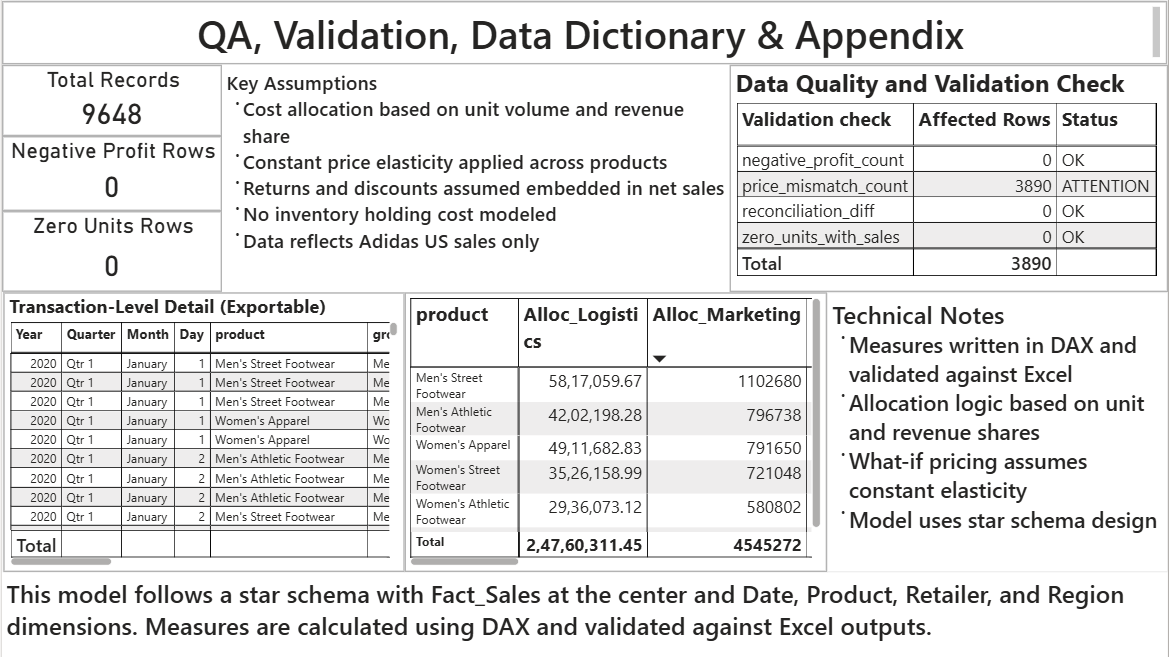

Layout of this report page (visuals, bound fields, positions):
{"tool":"powerbi","page":{"name":"QA & Data Dictionary","canvas":[1280,720],"ordinal":6},"visuals":[{"type":"textbox","box":[0,0,1278.9,70],"z":0},{"type":"card","title":"Total Records","fields":{"Values":["Cost_Type (2).rows"]},"box":[0,70,241.5,78.2],"z":1000},{"type":"card","title":"Zero Units Rows","fields":{"Values":["Table.ZeroUnitsWithSalesCount"]},"box":[0,230.5,241.5,89.2],"z":2000},{"type":"card","title":"Negative Profit Rows","fields":{"Values":["Table.NegativeProfitCount"]},"box":[0,148.2,241.5,82.3],"z":3000},{"type":"tableEx","title":"Data Quality and Validation Check","fields":{"Values":["Tbl_Validation.check","Sum(Tbl_Validation.value)","Tbl_Validation.flag"]},"box":[798.6,70,481.6,249.7],"z":7000},{"type":"textbox","box":[0,627.1,1278.9,93.3],"z":8000},{"type":"textbox","box":[241.5,70,557.1,249.7],"z":9000},{"type":"tableEx","title":"Transaction-Level Detail (Exportable)","fields":{"Values":["Dim_Date.Date.Variation.Date Hierarchy.Year","Dim_Date.Date.Variation.Date Hierarchy.Quarter","Dim_Date.Date.Variation.Date Hierarchy.Month","Dim_Date.Date.Variation.Date Hierarchy.Day","Dim_Product.product","Dim_Product.grouped_category","Dim_Retailer.retailer","Dim_Region.region","Dim_SalesMethod.sales_method","Sum(Fact_Sales.units_sold)","Table.Total Revenue","Table.Total Operating Profit"]},"box":[1.4,319.7,440.5,307.4],"z":10000},{"type":"pivotTable","title":"Data Quality and Validation Check","fields":{"Rows":["Dim_Product.product"],"Values":["Table.Alloc_Logistics","Table.Alloc_Marketing","Table.Alloc_OnlineFee","Table.Alloc_StoreOps","Table.Total Allocated Costs Dynamic","Table.Net Profit After Alloc"]},"box":[441.9,319.7,463.8,307.4],"z":11000},{"type":"textbox","box":[905.7,319.7,374.6,307.4],"z":12000}]}

Visuals, with their boxes in screenshot pixels (x1, y1, x2, y2), scaled from the page's 1280x720 canvas onto the 1169x657 screenshot:
textbox: <region>0, 0, 1168, 64</region>
"Total Records" card: <region>0, 64, 221, 135</region>
"Zero Units Rows" card: <region>0, 210, 221, 292</region>
"Negative Profit Rows" card: <region>0, 135, 221, 210</region>
"Data Quality and Validation Check" tableEx: <region>729, 64, 1168, 292</region>
textbox: <region>0, 572, 1168, 656</region>
textbox: <region>221, 64, 729, 292</region>
"Transaction-Level Detail (Exportable)" tableEx: <region>1, 292, 404, 572</region>
"Data Quality and Validation Check" pivotTable: <region>404, 292, 827, 572</region>
textbox: <region>827, 292, 1168, 572</region>
